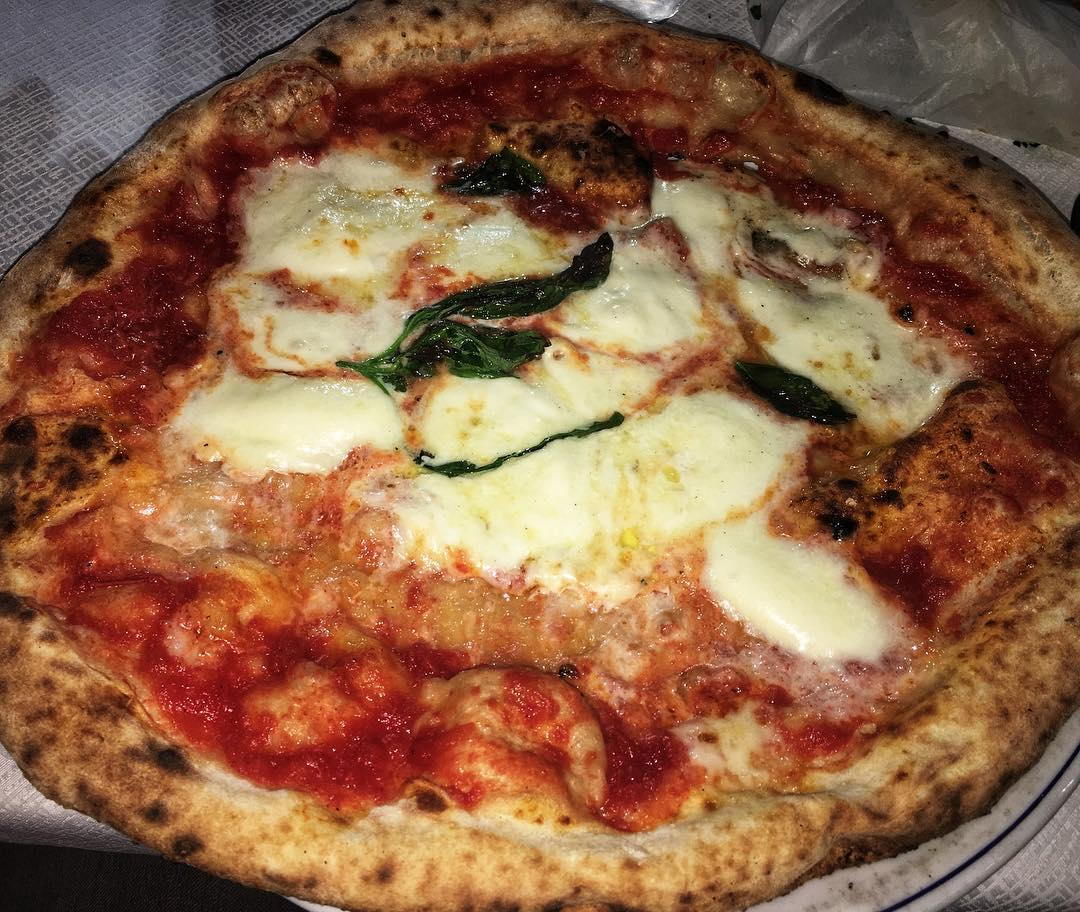Arugula: (388, 241, 616, 386), (734, 354, 836, 428), (434, 144, 545, 197)
Cheese: (451, 381, 765, 533), (754, 274, 927, 413), (198, 374, 390, 471), (248, 164, 418, 271), (734, 541, 887, 655), (241, 291, 401, 357), (564, 244, 685, 331), (668, 178, 765, 264)
Pizza: (0, 0, 1080, 912)
